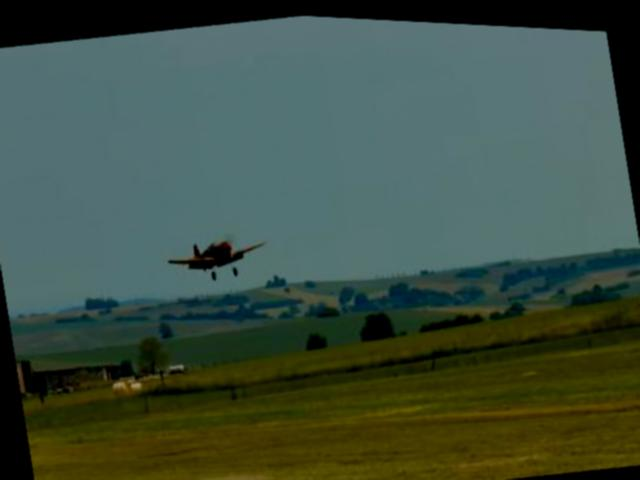uav: (161, 227, 271, 283)
